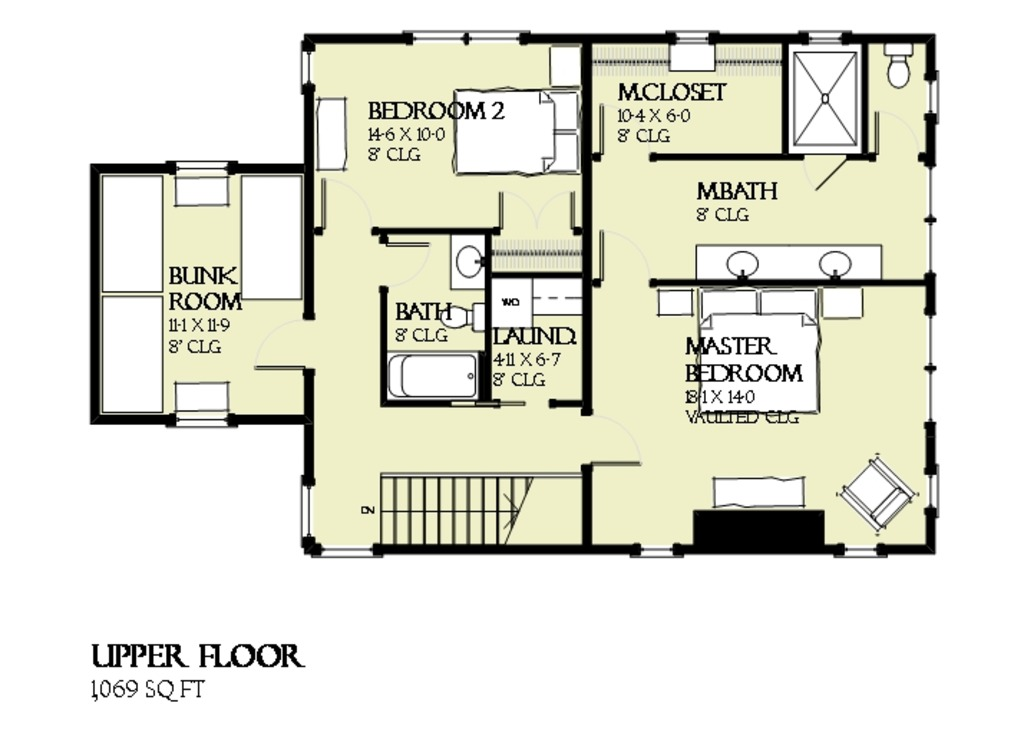large_sink: (879, 45, 918, 95), (442, 302, 487, 338)
small_sink: (692, 241, 884, 285), (448, 231, 493, 297)
small_sofa: (840, 454, 918, 530)
stairs: (374, 470, 543, 552)
tub: (382, 345, 484, 404)
windows: (406, 28, 536, 49), (173, 156, 239, 177), (170, 407, 232, 427), (298, 45, 318, 88), (635, 542, 676, 562)
